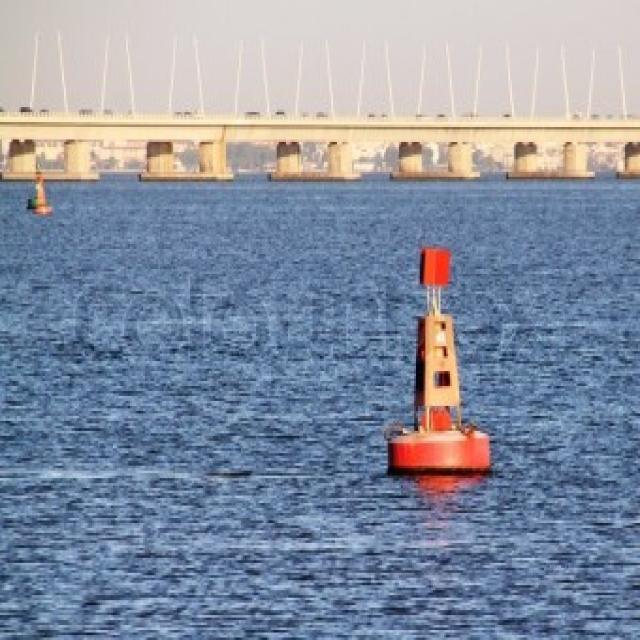buoy: (390, 220, 493, 496)
